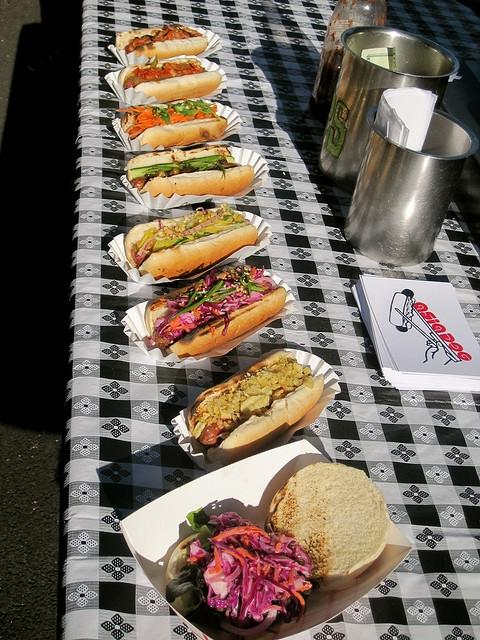carrot: (212, 526, 271, 540), (126, 124, 155, 134), (164, 316, 180, 332), (236, 548, 256, 560), (170, 324, 196, 329), (141, 119, 156, 124), (132, 106, 146, 110), (139, 119, 152, 123)
